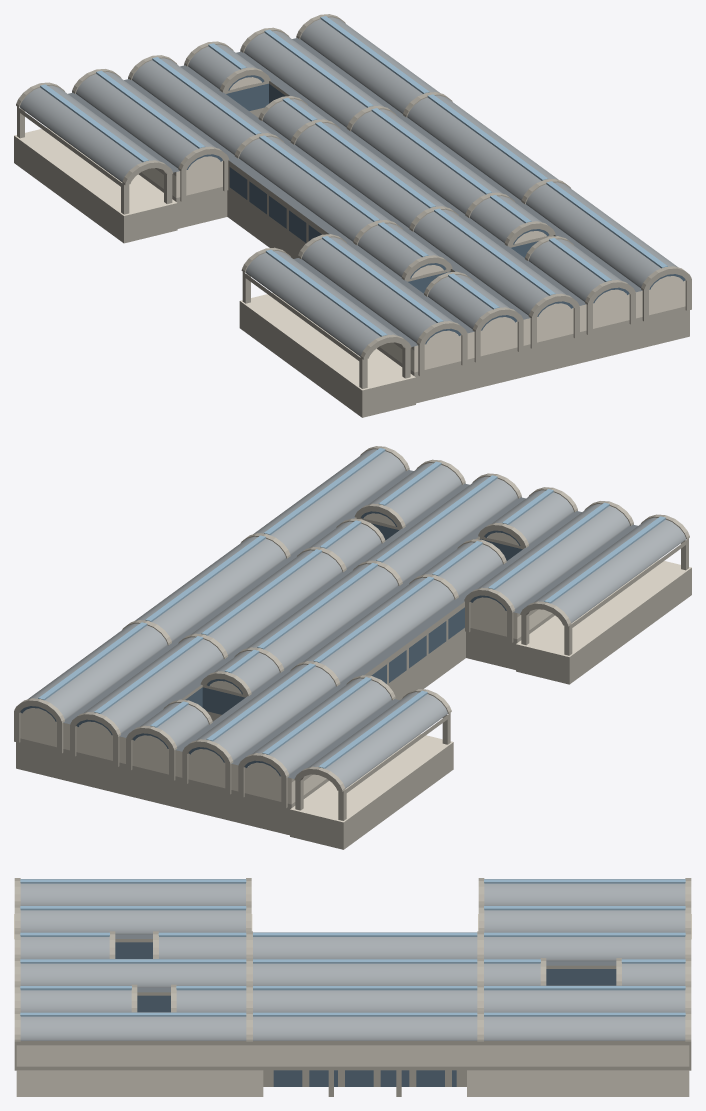
The model's file is dal-kimbell-art-museum.glb.
3 views of the same model, one above another, from view 1: azimuth 30°, elevation 25°; view 2: azimuth 150°, elevation 25°; view 3: azimuth 270°, elevation 25° (orthographic). The views are drawn at different scales.
Parts seen in each view (by area): view 1: Kimbell Art Museum; view 2: Kimbell Art Museum; view 3: Kimbell Art Museum.
Boxes of the visible parts, left/top/right/bottom form: Kimbell Art Museum: left=14, top=14, right=691, bottom=417; Kimbell Art Museum: left=14, top=446, right=691, bottom=849; Kimbell Art Museum: left=14, top=878, right=691, bottom=1096.
Bounding box in the file's own units: 54.15 × 11.62 × 98.95.
